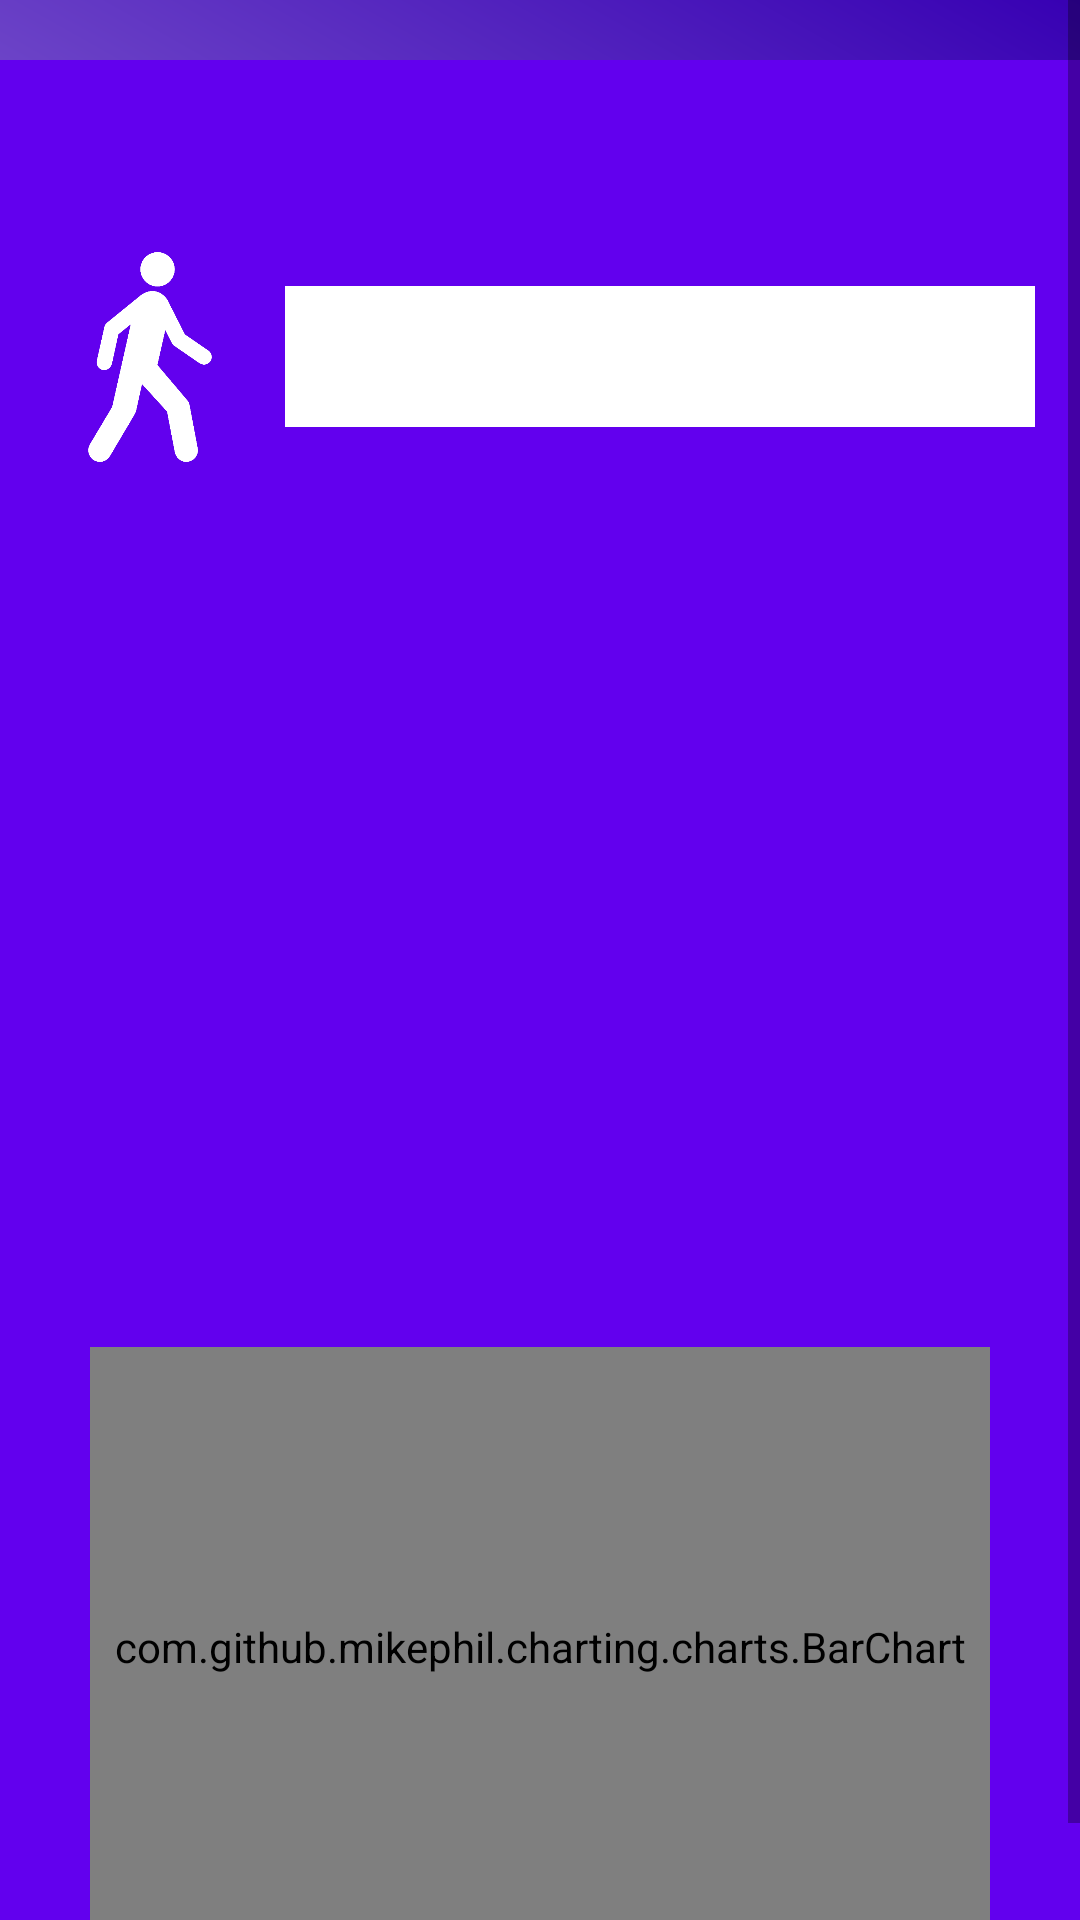

Screen size 1080px x 1920px. Icon name, then its box in pixels as (x1, y1, x2, y2):
pedestrian: (88, 252, 212, 462)
